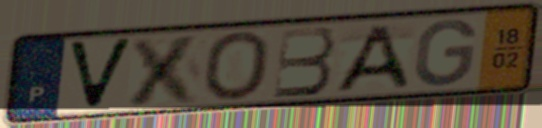A: (330, 21, 412, 94)
B: (271, 24, 338, 101)
G: (411, 17, 480, 89)
O: (199, 29, 273, 103)
V: (63, 36, 137, 112)
X: (122, 31, 206, 108)
